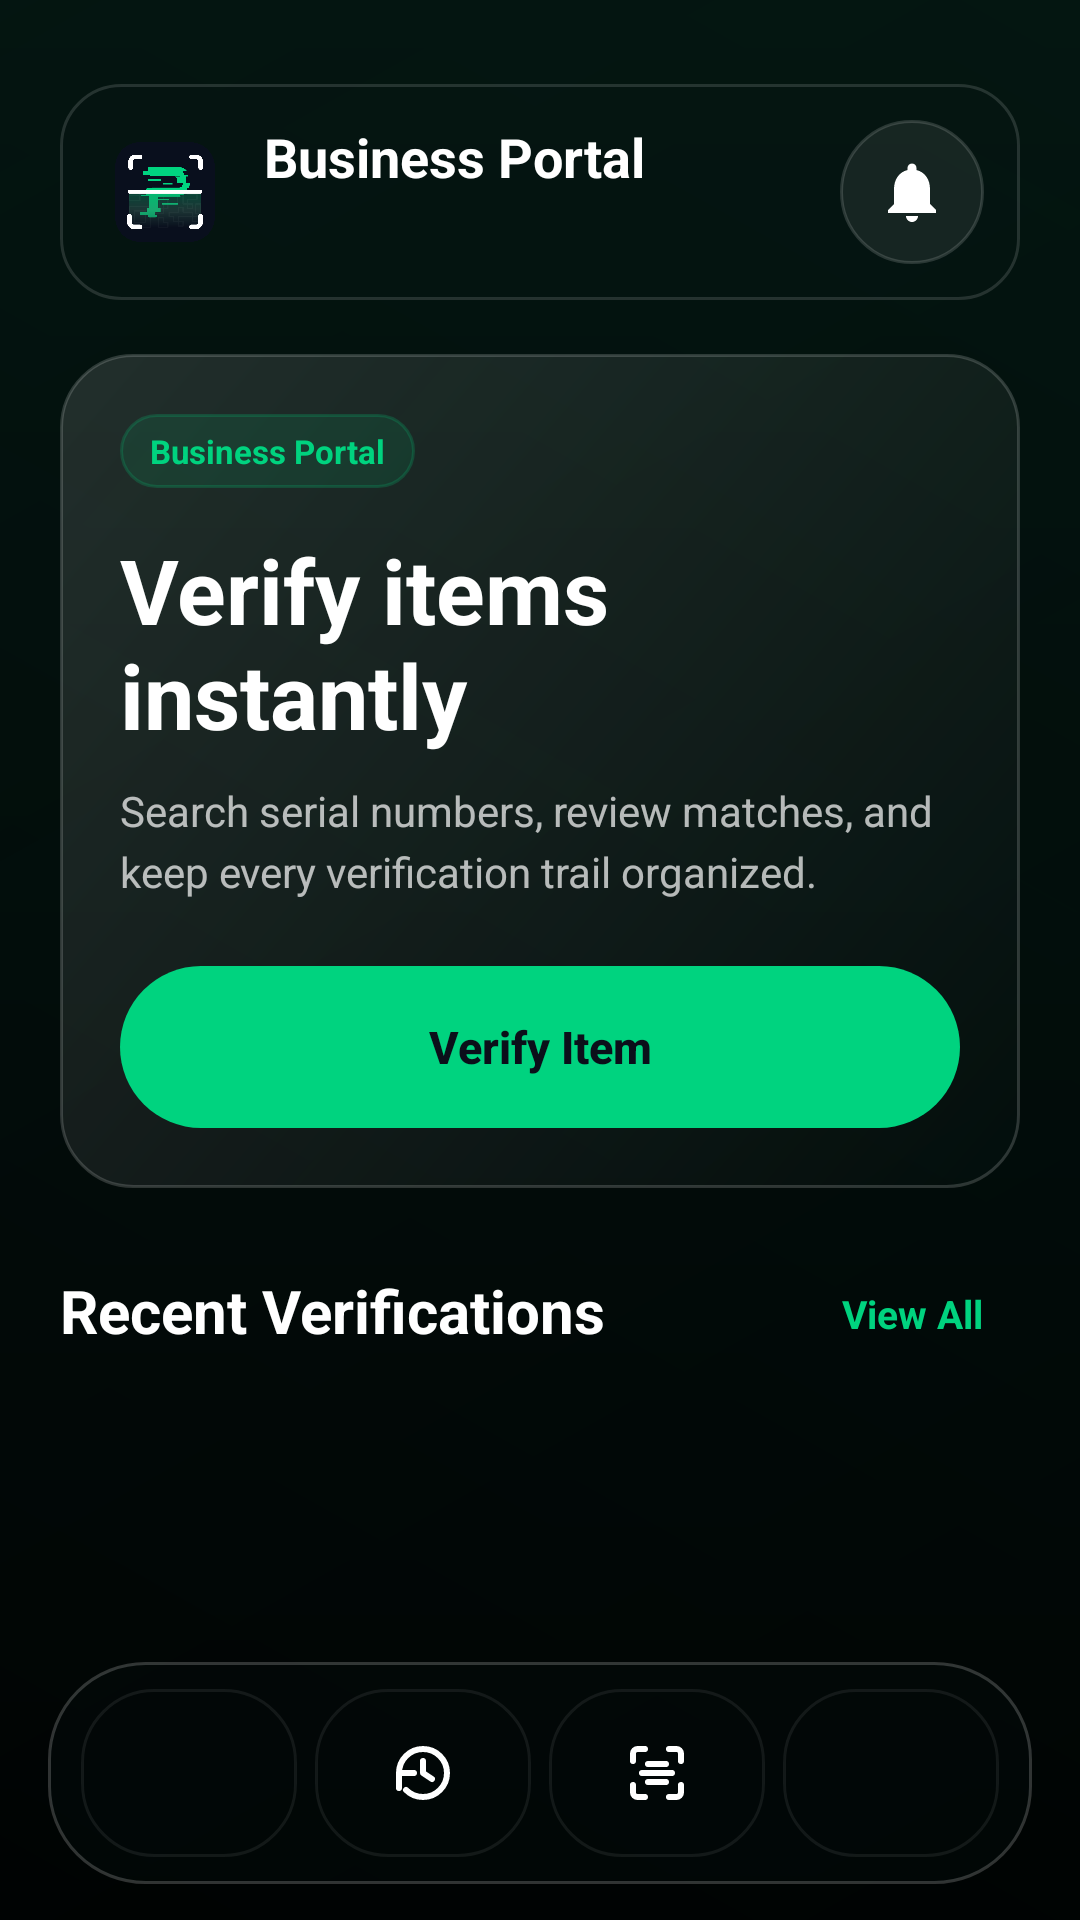

Where to tap for icons on this 1080 x 1920 app screen, as (x=x, y=y):
history: (x=423, y=1773)
Notifications: (x=912, y=192)
scan: (x=657, y=1773)
